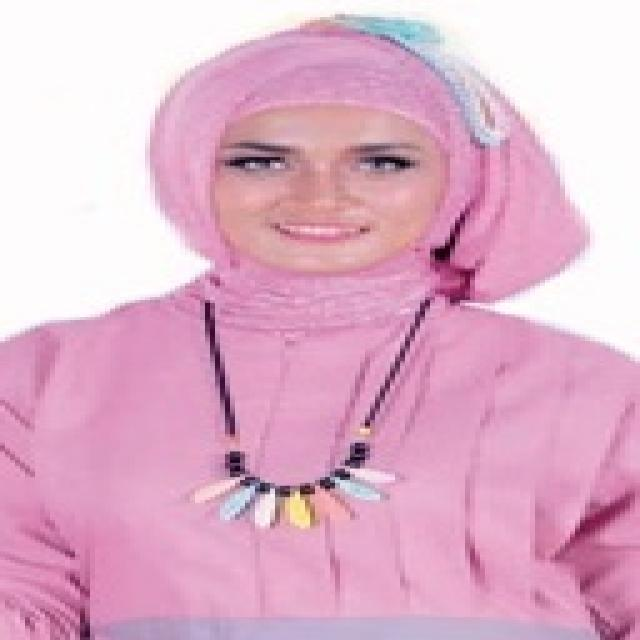head: (147, 14, 539, 289)
